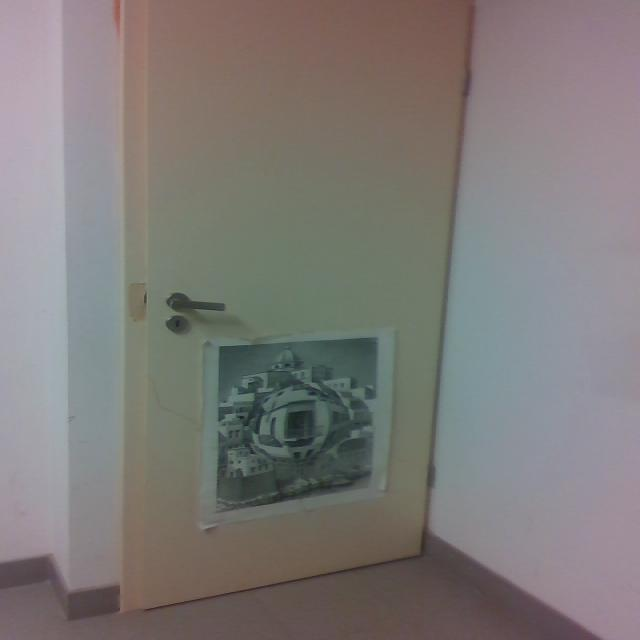door: (109, 1, 484, 619)
